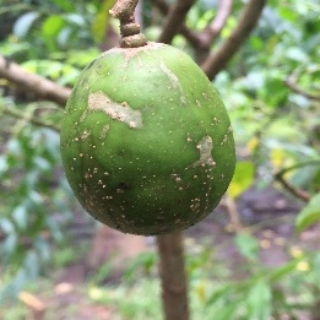coc: (59, 41, 236, 238)
